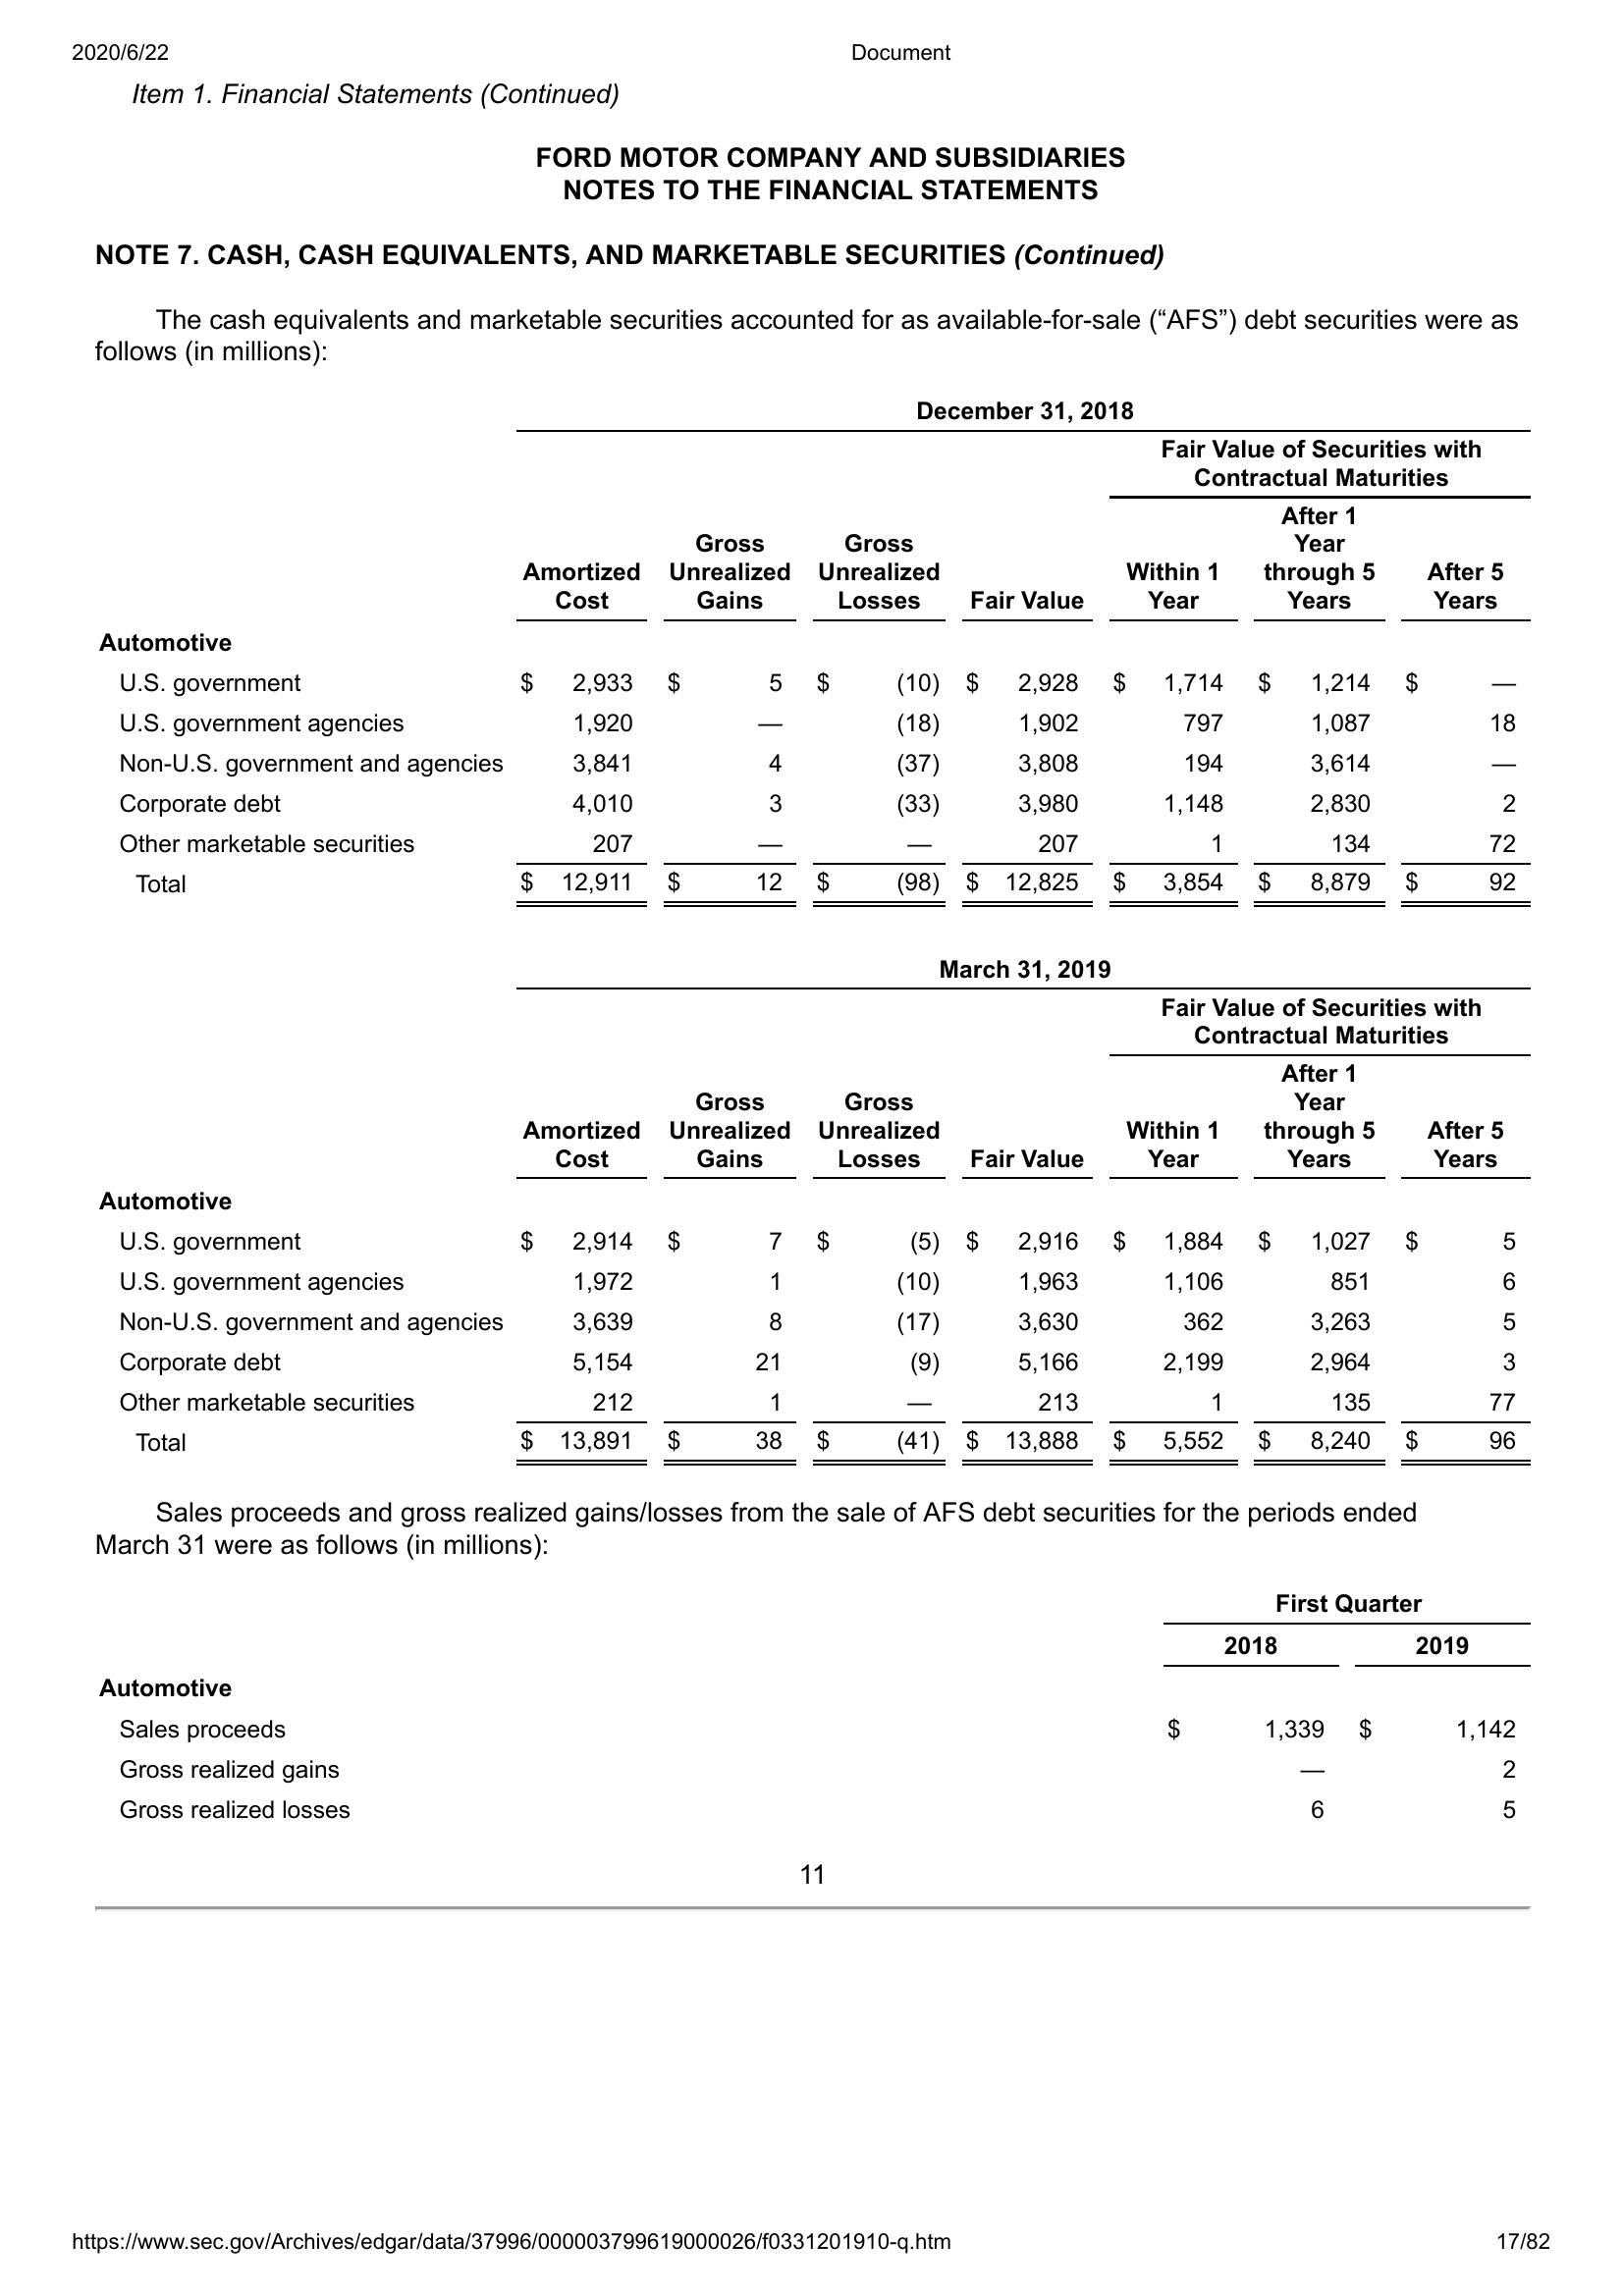table: (83, 948, 1539, 1473), (84, 395, 1535, 918), (91, 1573, 1528, 1836)
